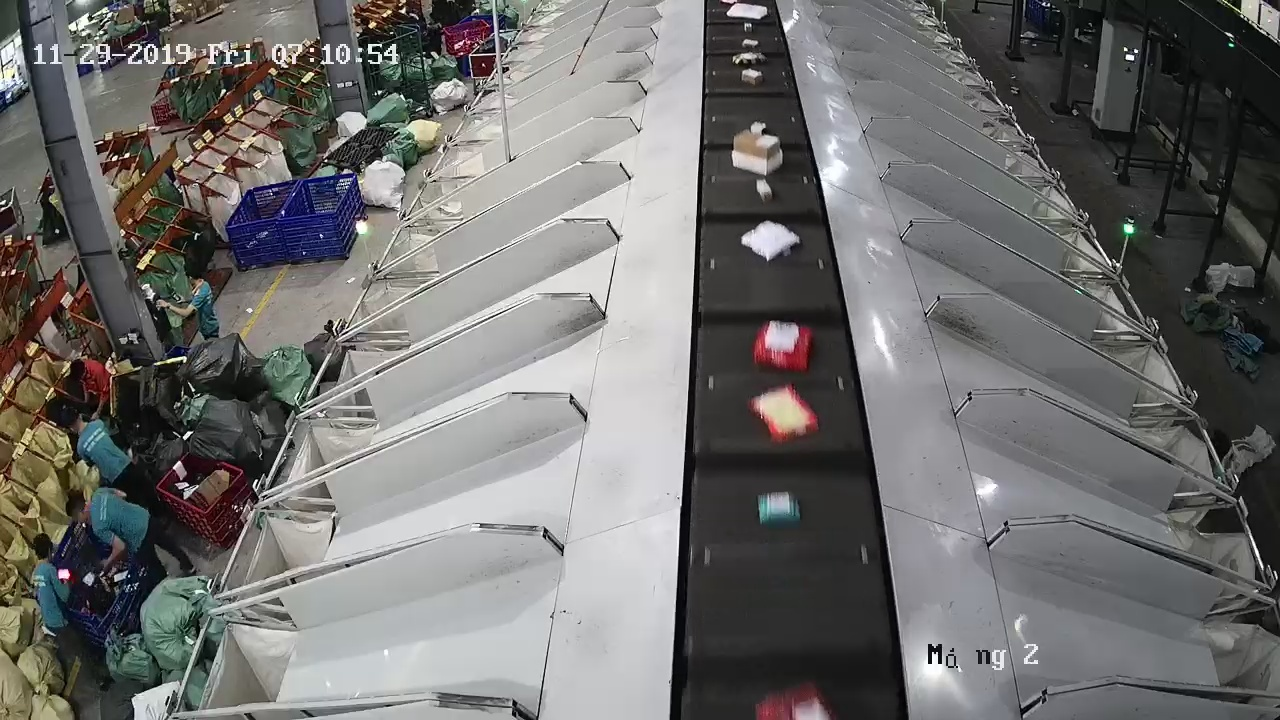parcel: (748, 382, 819, 445), (753, 318, 815, 372), (742, 221, 801, 263), (757, 490, 801, 525)
